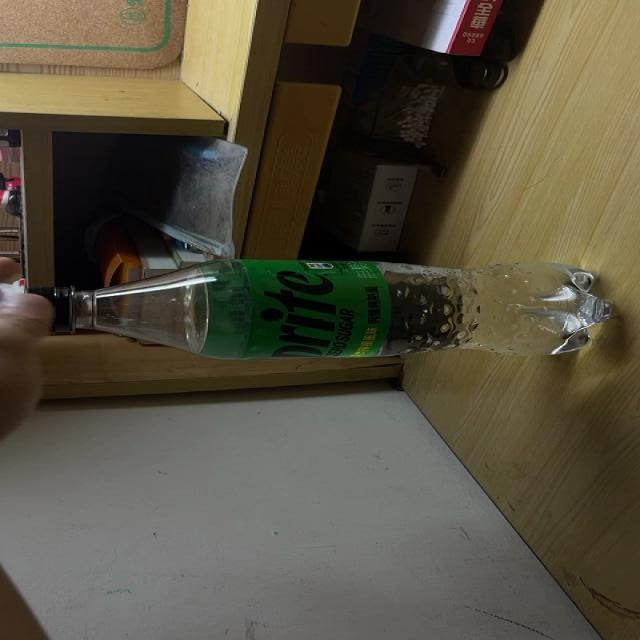Sprite: (24, 260, 617, 361)
